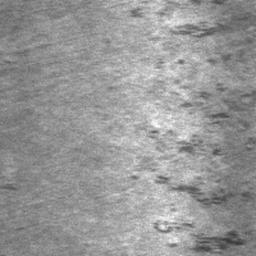Rolled in scale: (130, 127, 252, 253), (157, 58, 256, 152), (130, 0, 226, 52), (207, 52, 245, 65), (5, 52, 24, 68), (0, 186, 17, 191), (237, 16, 248, 22)
